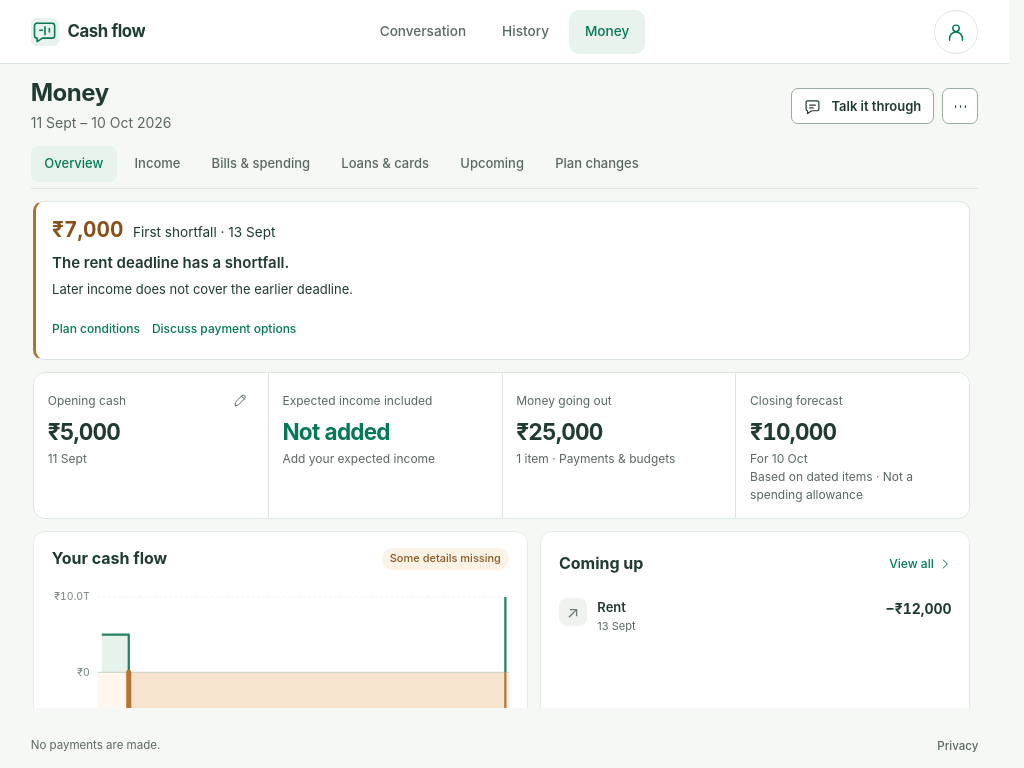
Test case: leads with the early gap even with a positive closing result and gives one selected action
Expected: the text "₹7,000" is shown, [52,214,123,246]
Expected: the element named "What needs attention" shows "First shortfall · 13 Sept", [33,201,970,360]
Click the button "Discuss payment options": (224, 329) [152,311,296,347]
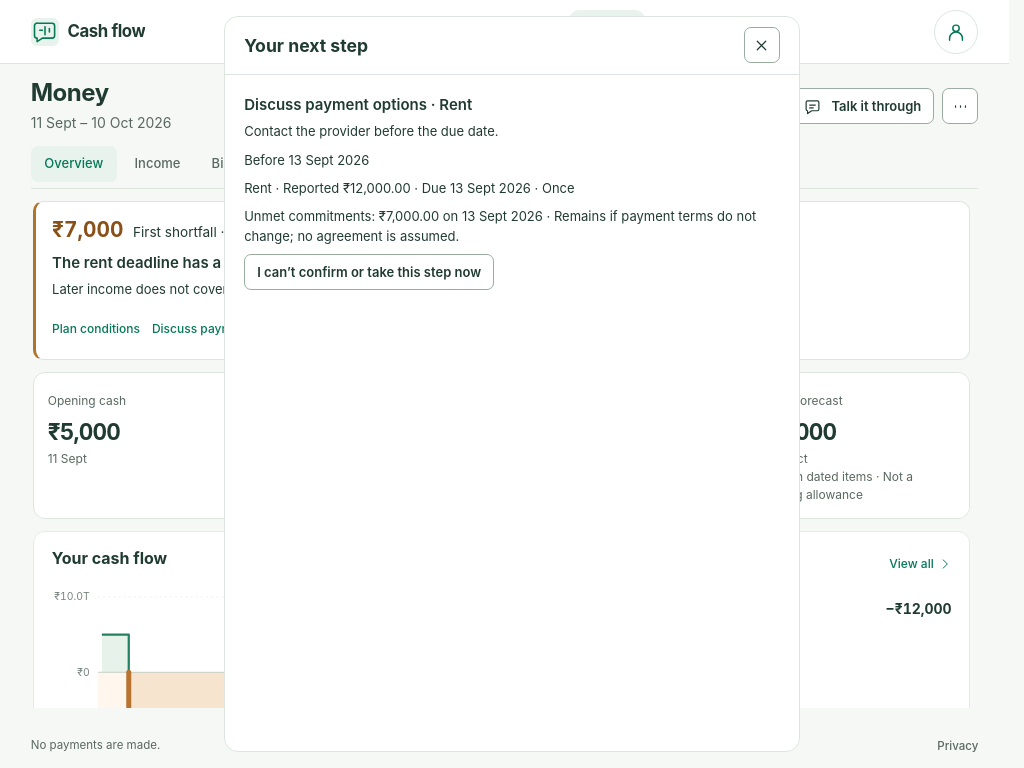
Now the dialog "Your next step" shows "Contact the provider before the due date.", box [244,123,498,139]
Click the button named "Close your next step": (762, 45) [744,27,780,63]
(page scrolled)
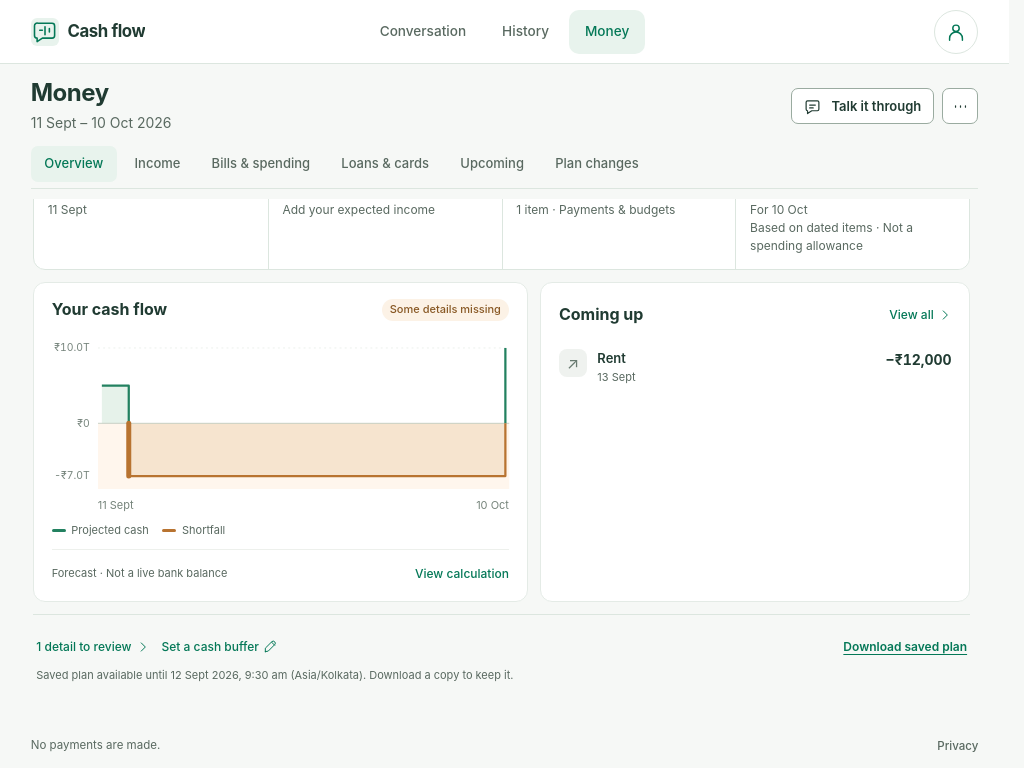
Click the button "View calculation": (462, 574) [415,558,509,590]
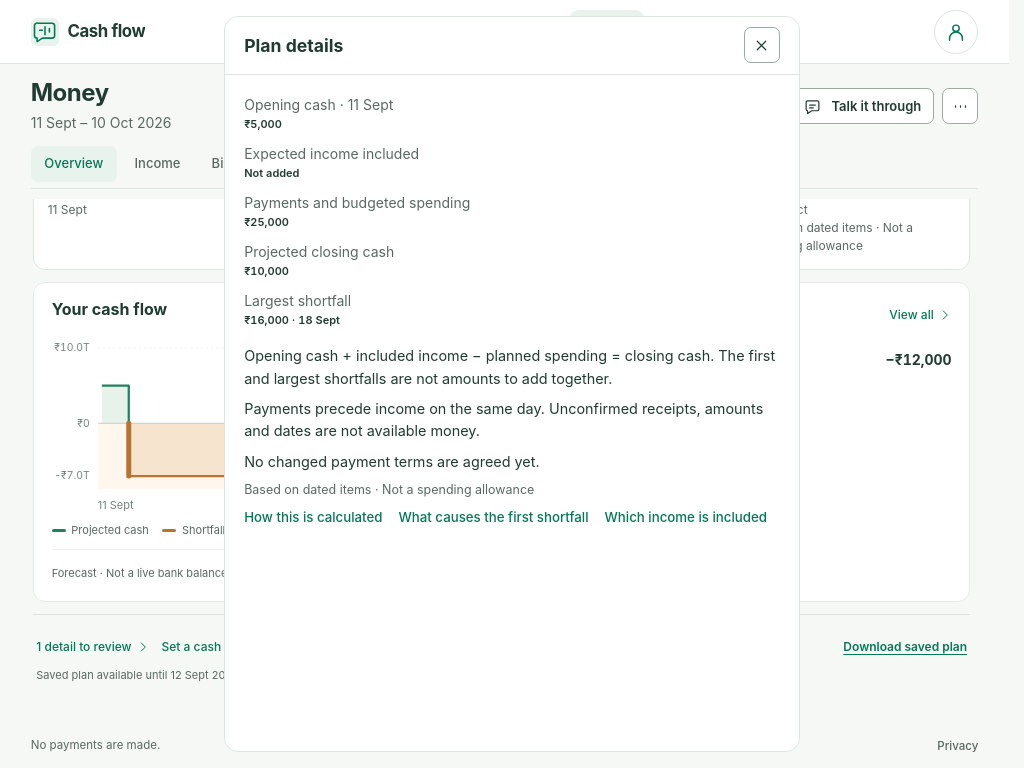
Now the dialog "Plan details" shows "₹10,000", box [244,264,289,278]
Now the dialog "Plan details" shows "₹16,000", box [244,313,289,327]
Now the dialog "Plan details" shows "not amounts to add together", box [386,370,612,386]
